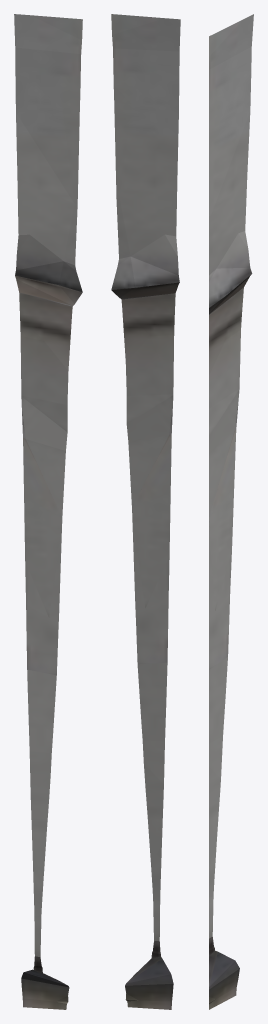
3 renders of one model, left to right at view 1: azimuth 30°, elevation 25°; view 2: azimuth 210°, elevation 25°; view 3: azimuth 270°, elevation 25°, orthographic.
Bounding box in the file's own units: 0.082 × 1.67 × 0.0696.
1 material, 1 textured.
